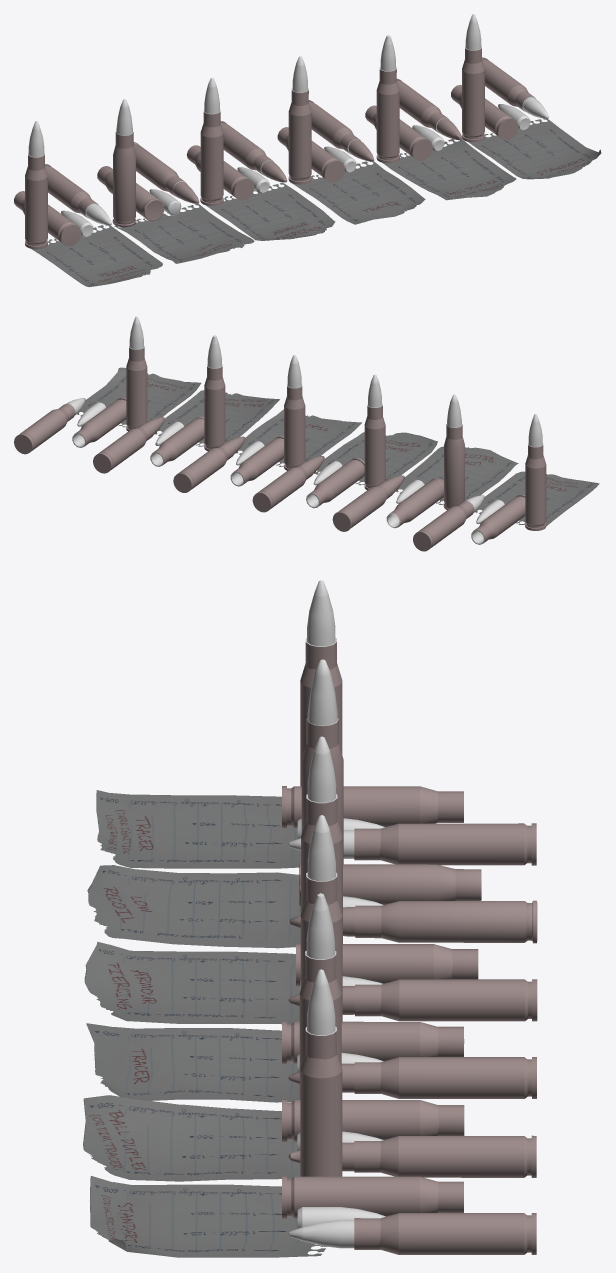
Rendered from 7_62_51_nato_cartridges_mini_pack.fbx.
3 renders of one model, top to bottom at view 1: azimuth 30°, elevation 25°; view 2: azimuth 150°, elevation 25°; view 3: azimuth 270°, elevation 25°, orthographic. The views are drawn at different scales.
Parts seen in each view (by area): view 1: note_3, note_1, note_6, note_2, note_4, note_5, cartridge_2_1, cartridge_4_1, cartridge_3_1, cartridge_5_1, cartridge_6_1, cartridge_1_1 (+24 smaller); view 2: note_5, note_1, note_4, note_2, note_6, note_3, cartridge_6_1, cartridge_4_1, cartridge_2_1, cartridge_3_1, cartridge_1_1, cartridge_5_1 (+18 smaller); view 3: note_2, note_5, note_4, note_1, note_6, note_3, cartridge_1, cartridge_3, cartridge_6, cartridge_5, cartridge_2, cartridge_4 (+19 smaller).
Boxes of the visible parts, bbox=[...] form: note_3: bbox=[292, 161, 425, 224]; note_1: bbox=[468, 118, 601, 179]; note_6: bbox=[31, 225, 162, 287]; note_2: bbox=[383, 139, 516, 200]; note_4: bbox=[206, 182, 335, 240]; note_5: bbox=[114, 203, 254, 263]; cartridge_2_1: bbox=[288, 88, 311, 184]; cartridge_4_1: bbox=[376, 66, 399, 163]; cartridge_3_1: bbox=[200, 109, 223, 205]; cartridge_5_1: bbox=[112, 131, 136, 227]; cartridge_6_1: bbox=[25, 152, 47, 249]; cartridge_1_1: bbox=[462, 46, 484, 142]; note_5: bbox=[395, 446, 518, 504]; note_1: bbox=[77, 367, 201, 427]; note_4: bbox=[314, 432, 437, 485]; note_2: bbox=[155, 390, 279, 446]; note_6: bbox=[475, 471, 599, 525]; note_3: bbox=[236, 409, 361, 466]; cartridge_6_1: bbox=[525, 443, 546, 530]; cartridge_4_1: bbox=[204, 364, 225, 451]; cartridge_2_1: bbox=[284, 384, 305, 470]; cartridge_3_1: bbox=[364, 403, 385, 490]; cartridge_1_1: bbox=[126, 345, 147, 431]; cartridge_5_1: bbox=[443, 424, 464, 509]; note_2: bbox=[83, 1095, 300, 1181]; note_5: bbox=[87, 865, 300, 948]; note_4: bbox=[84, 941, 300, 1024]; note_1: bbox=[90, 1176, 326, 1257]; note_6: bbox=[96, 790, 300, 868]; note_3: bbox=[86, 1023, 299, 1102]; cartridge_1: bbox=[288, 1213, 536, 1254]; cartridge_3: bbox=[288, 979, 537, 1021]; cartridge_6: bbox=[288, 823, 536, 865]; cartridge_5: bbox=[289, 900, 537, 943]; cartridge_2: bbox=[288, 1057, 536, 1098]; cartridge_4: bbox=[288, 1135, 536, 1177].
Bounding box in the file's own units: 31.3 × 7.17 × 13.02.
